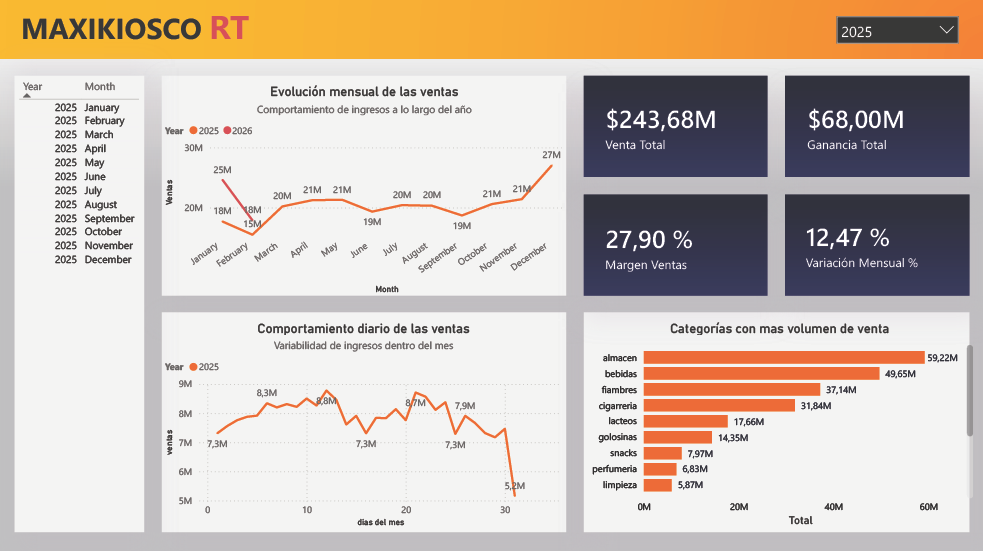

This screenshot's page, from the dashboard's own definition file:
{"tool":"powerbi","page":{"name":"Dashboard Principal","canvas":[1280,720],"ordinal":0},"visuals":[{"type":"lineChart","title":"Evolución mensual de las ventas","fields":{"Category":["Original.fecha.Variation.Date Hierarchy.Month"],"Y":["Sum(Original.subtotal)"],"Series":["Original.fecha.Variation.Date Hierarchy.Year"]},"box":[211.2,108.8,526.2,277.5],"z":0},{"type":"lineChart","title":"Comportamiento diario de las ventas","fields":{"Y":["Sum(fact_table.subtotal)"],"Category":["dim_fecha.dia"],"Series":["dim_fecha.fecha.Variation.Date Hierarchy.Year"]},"box":[211.4,415.7,524.3,272.9],"z":1000},{"type":"barChart","title":"Categorías con mas volumen de venta","fields":{"Category":["dim_categoria.categoria"],"Y":["Sum(fact_table.subtotal)"]},"box":[757.1,415.7,511.4,272.9],"z":2000},{"type":"tableEx","fields":{"Values":["dim_fecha.fecha.Variation.Date Hierarchy.Year","dim_fecha.fecha.Variation.Date Hierarchy.Month"]},"box":[21.2,98.8,166.2,593.8],"z":3000},{"type":"textbox","box":[24,6,282,72],"z":4000},{"type":"textbox","box":[268,0,86,71],"z":5000},{"type":"cardVisual","title":"VE","fields":{"Data":["medidas.Venta Total"]},"box":[758.3,96.7,240,135],"z":6000},{"type":"cardVisual","title":"VE","fields":{"Data":["medidas.Margen Ventas"]},"box":[758.3,251.7,240,135],"z":7000},{"type":"cardVisual","title":"VE","fields":{"Data":["medidas.Ganancia Total"]},"box":[1020,96.7,240,135],"z":8000},{"type":"cardVisual","title":"VE","fields":{"Data":["medidas.Variación Mensual %"]},"box":[1018.3,250,240,135],"z":9000},{"type":"slicer","fields":{"Values":["dim_fecha.fecha.Variation.Date Hierarchy.Year"]},"box":[1076.7,11.7,178.3,60],"z":10000}]}

Visuals, with their boxes in screenshot pixels (x1, y1, x2, y2), scaled from the page's 1280x720 canvas onto the 983x551 screenshot:
"Evolución mensual de las ventas" lineChart: Rect(162, 83, 566, 296)
"Comportamiento diario de las ventas" lineChart: Rect(162, 318, 565, 527)
"Categorías con mas volumen de venta" barChart: Rect(581, 318, 974, 527)
tableEx - dim_fecha.fecha.Variation.Date Hierarchy.Year x dim_fecha.fecha.Variation.Date Hierarchy.Month: Rect(16, 76, 144, 530)
textbox: Rect(18, 5, 235, 60)
textbox: Rect(206, 0, 272, 54)
"VE" cardVisual: Rect(582, 74, 767, 177)
"VE" cardVisual: Rect(582, 193, 767, 296)
"VE" cardVisual: Rect(783, 74, 968, 177)
"VE" cardVisual: Rect(782, 191, 966, 295)
slicer - dim_fecha.fecha.Variation.Date Hierarchy.Year: Rect(827, 9, 964, 55)
